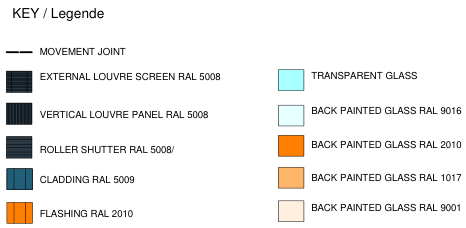hatch: (3, 100, 35, 127), (4, 68, 35, 95), (4, 134, 34, 161), (4, 166, 35, 192), (276, 198, 306, 224), (275, 67, 306, 92), (4, 200, 34, 225), (276, 133, 306, 158), (276, 165, 306, 190), (276, 104, 306, 128), (1, 42, 34, 62)
label: (309, 137, 463, 151), (310, 200, 462, 214), (38, 108, 212, 120), (38, 71, 223, 82), (309, 104, 464, 117), (309, 170, 464, 183), (36, 143, 177, 156), (308, 68, 421, 81), (38, 173, 142, 186), (37, 207, 136, 220), (38, 45, 130, 57)
